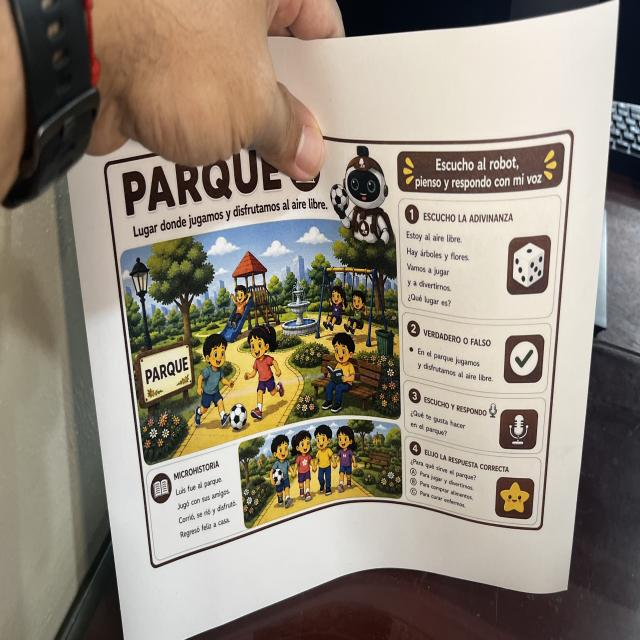parque: (99, 123, 578, 574)
